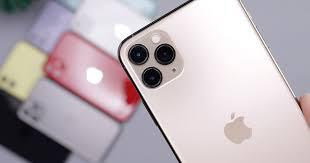Smartphone: (128, 9, 310, 163), (53, 38, 143, 123), (24, 83, 118, 163), (0, 91, 66, 162), (82, 3, 154, 55), (2, 45, 48, 97), (28, 4, 70, 45)
